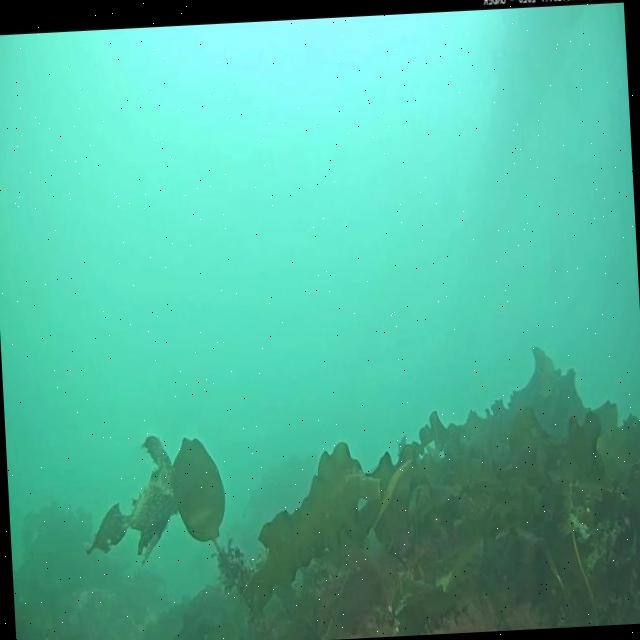fish: (369, 461, 412, 529)
